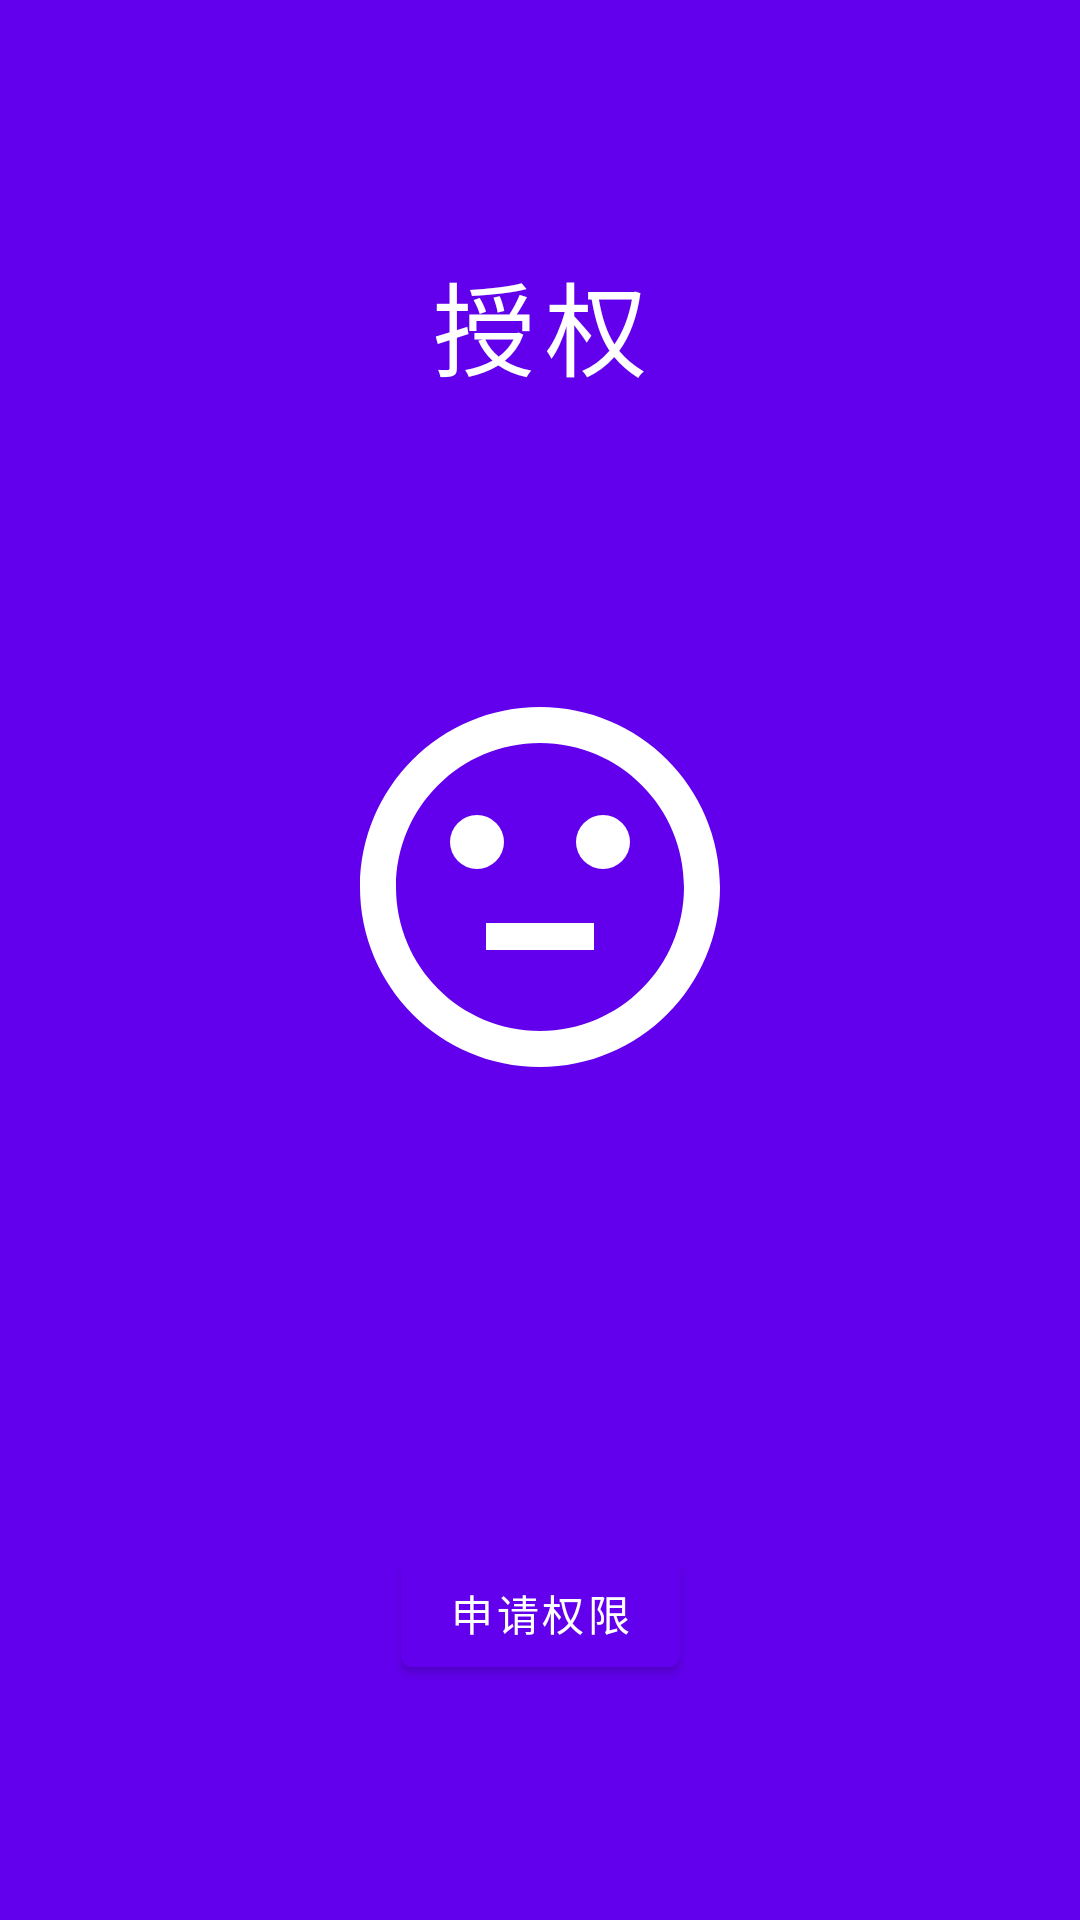

Named icons in this screenshot (1080x1920) and their centers, [x,y]:
sentiment neutral: [540,887]
